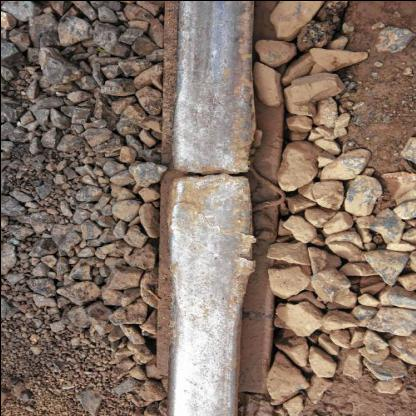Defective: (33, 131, 247, 280)
